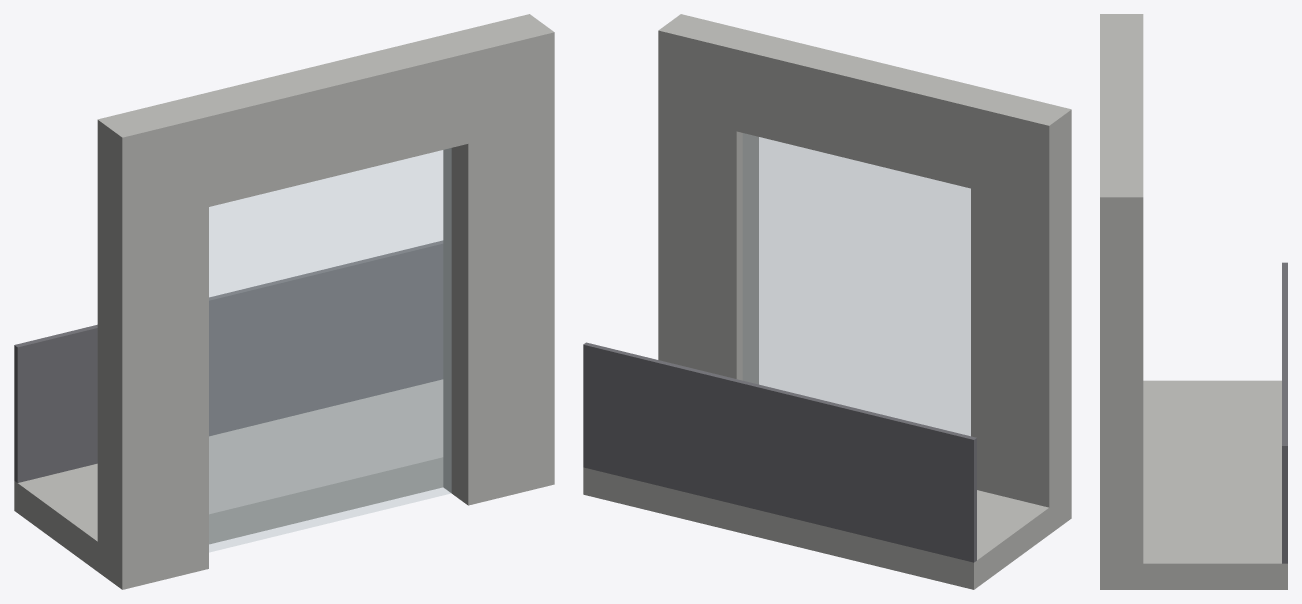
Rendered from fac_concrete_balcony.glb.
3 views of the same model, side by side, from view 1: azimuth 30°, elevation 25°; view 2: azimuth 150°, elevation 25°; view 3: azimuth 270°, elevation 25° (orthographic). The views are drawn at different scales.
Visible parts, largest first — view 1: fac_concrete_balcony; view 2: fac_concrete_balcony; view 3: fac_concrete_balcony.
Part boxes in pixels (x1=…): fac_concrete_balcony: x1=14, y1=14, x2=554, y2=589; fac_concrete_balcony: x1=583, y1=14, x2=1071, y2=589; fac_concrete_balcony: x1=1100, y1=14, x2=1287, y2=589.
Size of what is drawn, in the model's own units: 3 by 3 by 1.3.
